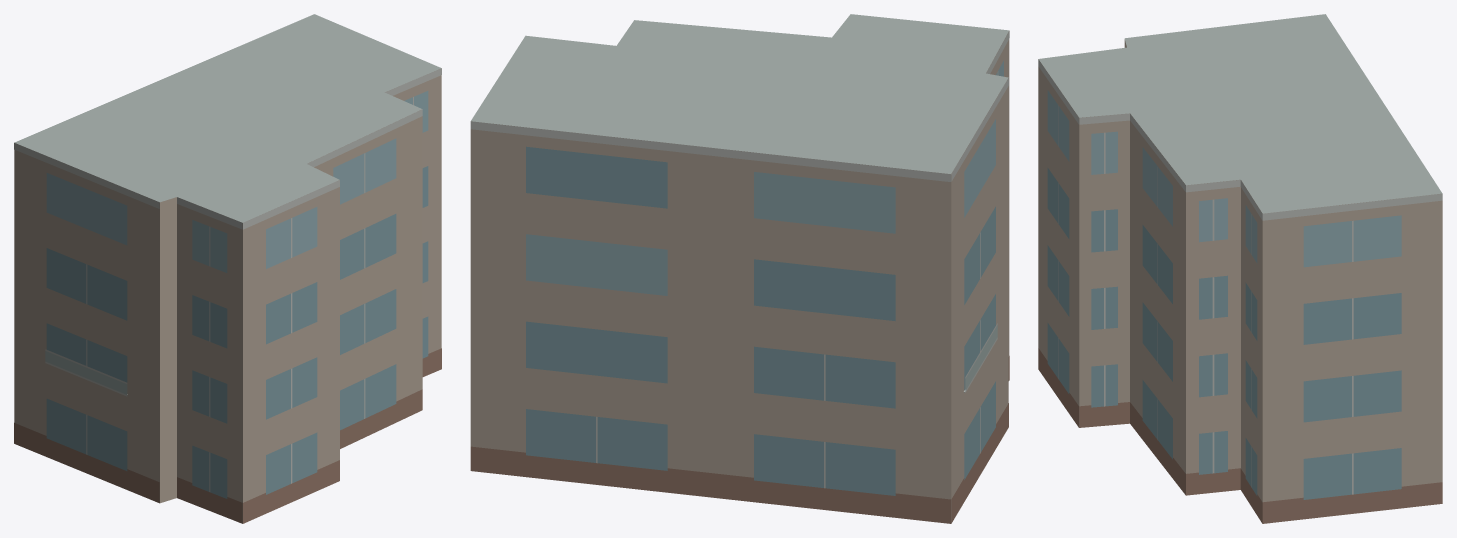
Rendered from survey-upis-32561265.glb.
3 renders of one model, left to right at view 1: azimuth 30°, elevation 25°; view 2: azimuth 150°, elevation 25°; view 3: azimuth 270°, elevation 25°, orthographic. The views are drawn at different scales.
Visible parts, largest first — view 1: survey-upis-32561265.tmp; view 2: survey-upis-32561265.tmp; view 3: survey-upis-32561265.tmp.
Boxes of the visible parts, x1,y1,x2,y2 form: survey-upis-32561265.tmp: (14, 14, 441, 523); survey-upis-32561265.tmp: (470, 14, 1009, 523); survey-upis-32561265.tmp: (1038, 14, 1442, 523).
Bounding box in the file's own units: 14.71 × 10.65 × 12.59.
